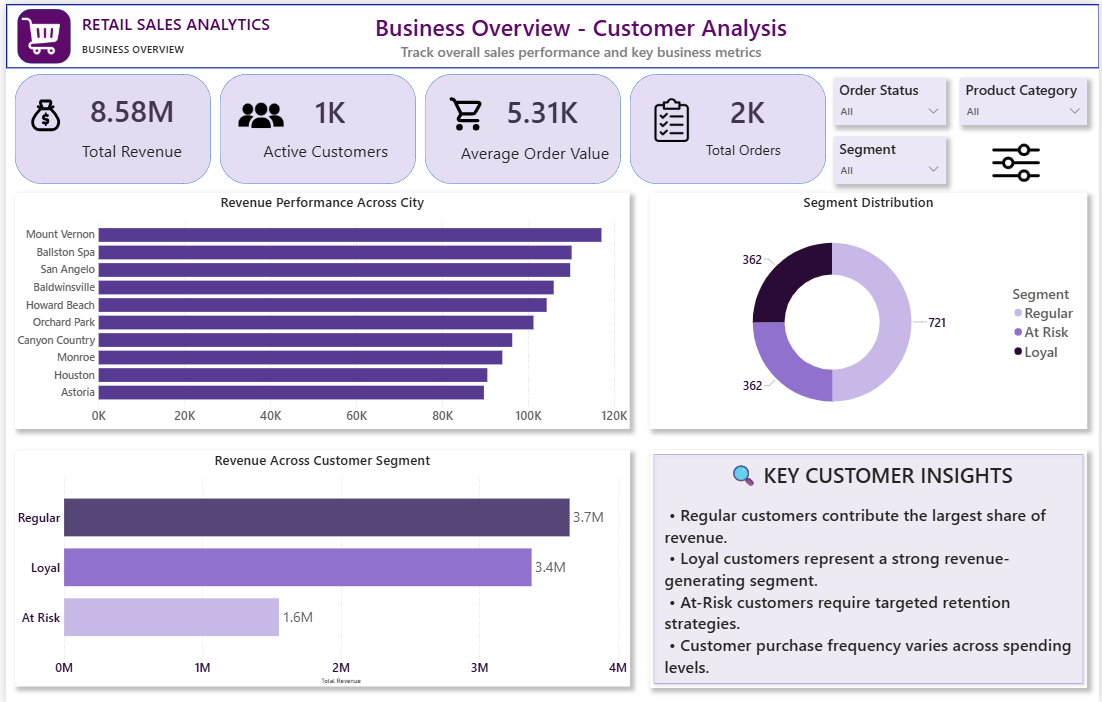

The page's visual inventory and layout, read from the dashboard file:
{"tool":"powerbi","page":{"name":"customer","canvas":[2500,1600],"ordinal":1},"visuals":[{"type":"shape","box":[0,0,2500,147.5],"z":0},{"type":"shape","box":[25,12.5,122.5,125],"z":1000},{"type":"image","box":[35,25,90,95],"z":2000},{"type":"textbox","title":"sales side txt box","box":[167.5,15,680,132.5],"z":3000},{"type":"textbox","title":"sales header","box":[777.1,11.4,1074.3,137.1],"z":4000},{"type":"cardVisual","fields":{"Data":["Table_measures.Total Revenue"]},"box":[162.9,177.1,262.9,128.6],"z":6000},{"type":"shape","box":[20,160,448.6,251.4],"z":7000},{"type":"textbox","box":[168.6,305.7,257.5,70],"z":8000},{"type":"image","box":[37.1,200,110,105],"z":9000},{"type":"cardVisual","fields":{"Data":["Table_measures.Active Customers"]},"box":[677.1,188.6,202.5,107.5],"z":10000},{"type":"shape","box":[488.6,160,448.6,251.4],"z":11000},{"type":"textbox","box":[582.9,305.7,308.6,71.4],"z":12000},{"type":"image","box":[531.4,200,102.9,108.6],"z":13000},{"type":"cardVisual","fields":{"Data":["Table_measures.Avg Order Value"]},"box":[1114.3,188.6,248.6,108.6],"z":14000},{"type":"shape","box":[957.1,160,448.6,251.4],"z":15000},{"type":"textbox","box":[1034.3,308.6,391.4,71.4],"z":16000},{"type":"image","box":[997.1,205.7,117.1,91.4],"z":17000},{"type":"cardVisual","fields":{"Data":["Table_measures.Total Orders"]},"box":[1625.7,188.6,247.5,107.5],"z":18000},{"type":"shape","box":[1425.7,160,448.6,251.4],"z":19000},{"type":"textbox","box":[1594.3,305.7,210,70],"z":20000},{"type":"image","box":[1471.4,211.4,100,108.6],"z":21000},{"type":"slicer","fields":{"Values":["orders.order_status"]},"box":[1891.4,168.6,257.1,108.6],"z":22000},{"type":"slicer","fields":{"Values":["products.Category"]},"box":[2180,168.6,291.4,108.6],"z":23000},{"type":"slicer","fields":{"Values":["customer_segments.Segment"]},"box":[1891.4,302.9,257.1,108.6],"z":24000},{"type":"image","box":[2180,308.6,257.1,108.6],"z":25000},{"type":"barChart","title":"Revenue Performance Across City","fields":{"Category":["customers.city"],"Y":["Table_measures.Total Revenue"]},"box":[20,431.4,1405.7,540],"z":26000},{"type":"donutChart","title":"Segment Distribution","fields":{"Category":["customer_segments.Segment"],"Y":["CountNonNull(customer_segments.customer_id)"]},"box":[1471.4,431.4,1000,540],"z":27000},{"type":"clusteredBarChart","title":"Revenue Across Customer Segment","fields":{"Category":["customer_segments.Segment"],"Y":["Table_measures.Total Revenue"]},"box":[20,1020,1406,540],"z":28000},{"type":"shape","box":[1471.4,1020,1000,542.9],"z":29000},{"type":"textbox","box":[1500,1020,954.3,542.9],"z":30000}]}

Visuals, with their boxes in screenshot pixels (x1, y1, x2, y2), scaled from the page's 2500x1600 canvas onto the 1102x702 screenshot:
shape: bbox=(0, 0, 1101, 65)
shape: bbox=(11, 5, 65, 60)
image: bbox=(15, 11, 55, 53)
"sales side txt box" textbox: bbox=(74, 7, 374, 65)
"sales header" textbox: bbox=(343, 5, 816, 65)
cardVisual - Table_measures.Total Revenue: bbox=(72, 78, 188, 134)
shape: bbox=(9, 70, 207, 181)
textbox: bbox=(74, 134, 188, 165)
image: bbox=(16, 88, 65, 134)
cardVisual - Table_measures.Active Customers: bbox=(298, 83, 388, 130)
shape: bbox=(215, 70, 413, 181)
textbox: bbox=(257, 134, 393, 165)
image: bbox=(234, 88, 280, 135)
cardVisual - Table_measures.Avg Order Value: bbox=(491, 83, 601, 130)
shape: bbox=(422, 70, 620, 181)
textbox: bbox=(456, 135, 628, 167)
image: bbox=(440, 90, 491, 130)
cardVisual - Table_measures.Total Orders: bbox=(717, 83, 826, 130)
shape: bbox=(628, 70, 826, 181)
textbox: bbox=(703, 134, 795, 165)
image: bbox=(649, 93, 693, 140)
slicer - orders.order_status: bbox=(834, 74, 947, 122)
slicer - products.Category: bbox=(961, 74, 1089, 122)
slicer - customer_segments.Segment: bbox=(834, 133, 947, 181)
image: bbox=(961, 135, 1074, 183)
"Revenue Performance Across City" barChart: bbox=(9, 189, 628, 426)
"Segment Distribution" donutChart: bbox=(649, 189, 1089, 426)
"Revenue Across Customer Segment" clusteredBarChart: bbox=(9, 448, 629, 684)
shape: bbox=(649, 448, 1089, 686)
textbox: bbox=(661, 448, 1082, 686)
